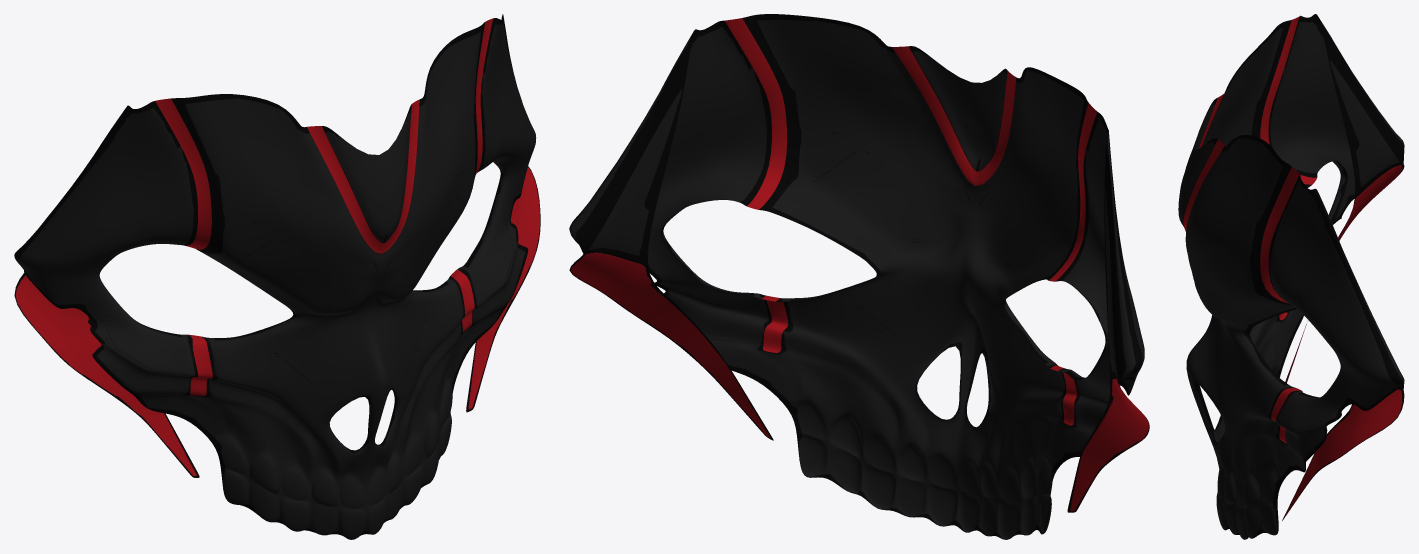
The picture shows the model from 3 angles, left to right: view 1: azimuth 30°, elevation 25°; view 2: azimuth 150°, elevation 25°; view 3: azimuth 270°, elevation 25°; orthographic projection. The views are drawn at different scales.
Visible parts, largest first — view 1: Gluttony Mask; view 2: Gluttony Mask; view 3: Gluttony Mask.
Boxes of the visible parts, left/top/right/bottom form: Gluttony Mask: left=14, top=14, right=540, bottom=539; Gluttony Mask: left=569, top=14, right=1149, bottom=539; Gluttony Mask: left=1178, top=14, right=1404, bottom=539.
Size of the model in its own units: 4.22 by 3.54 by 1.67.
1 material, 1 textured.
